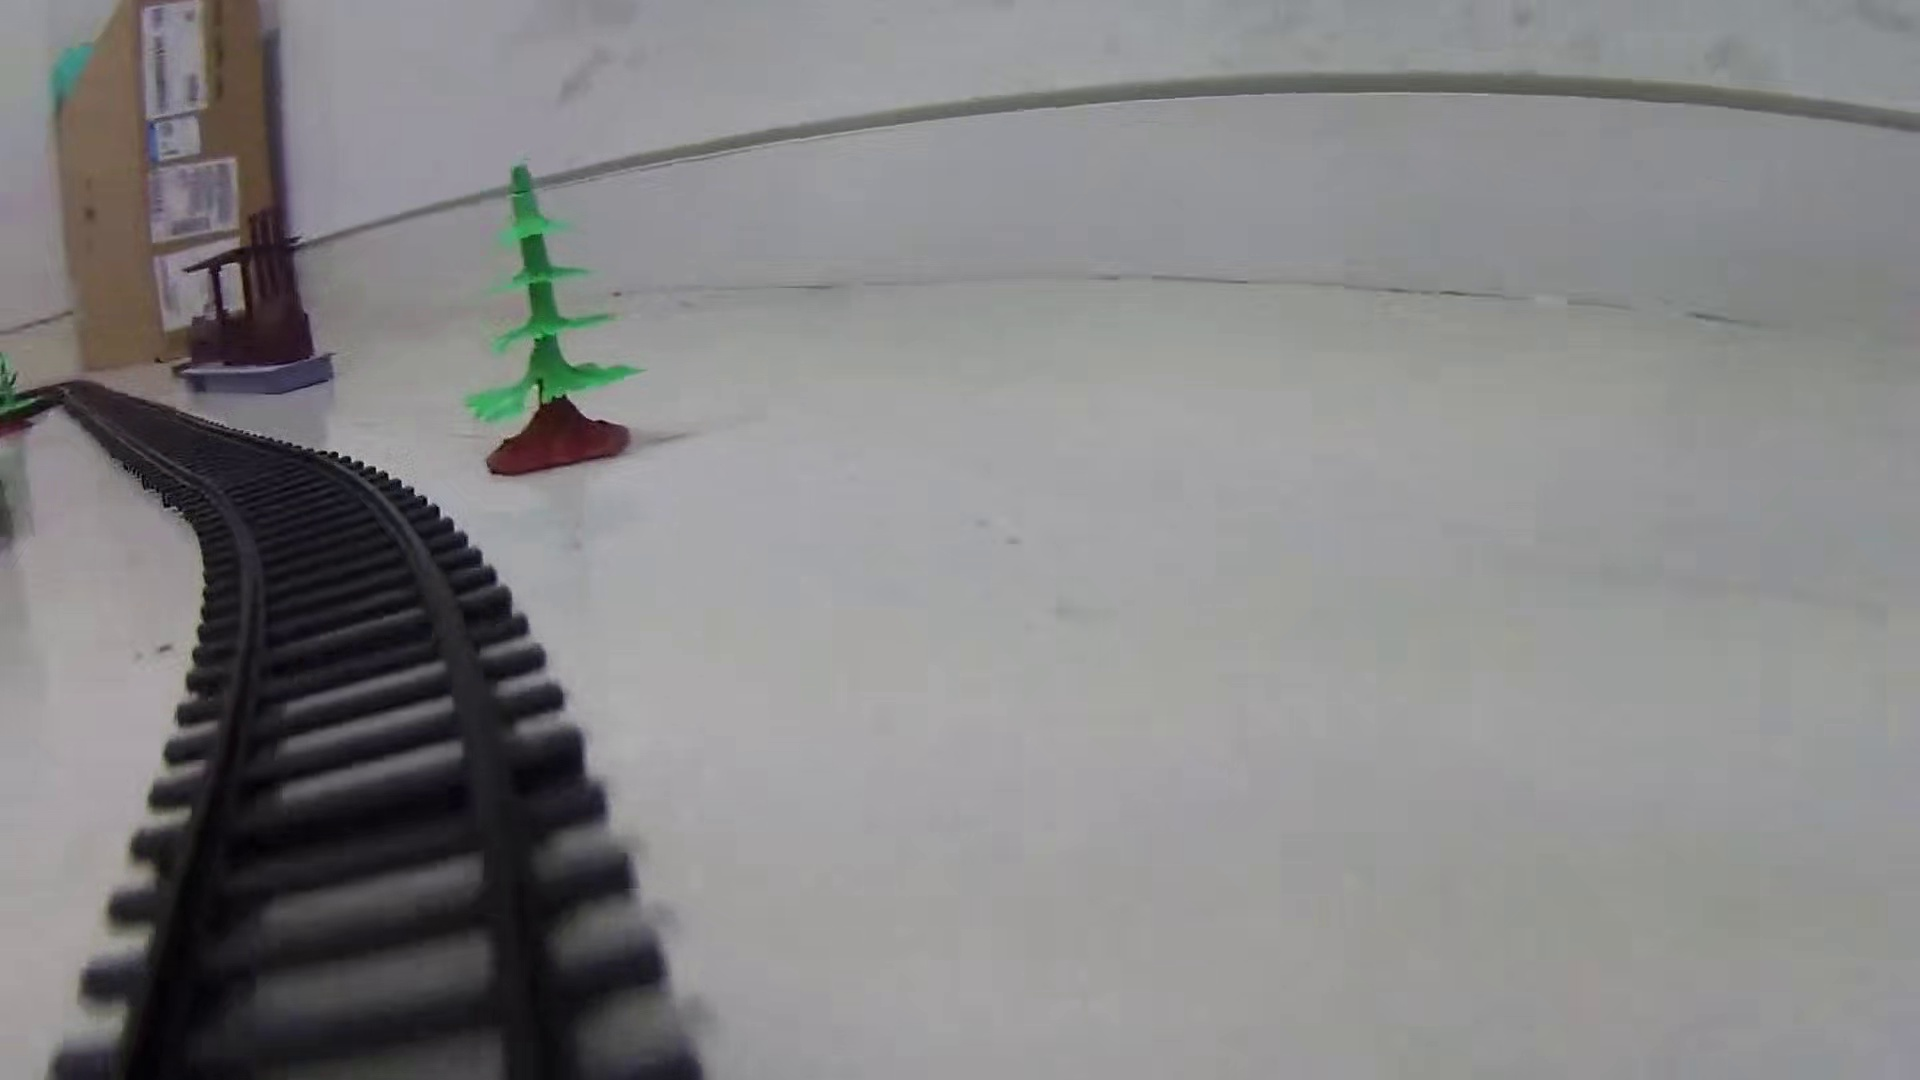tree: (460, 162, 642, 479)
